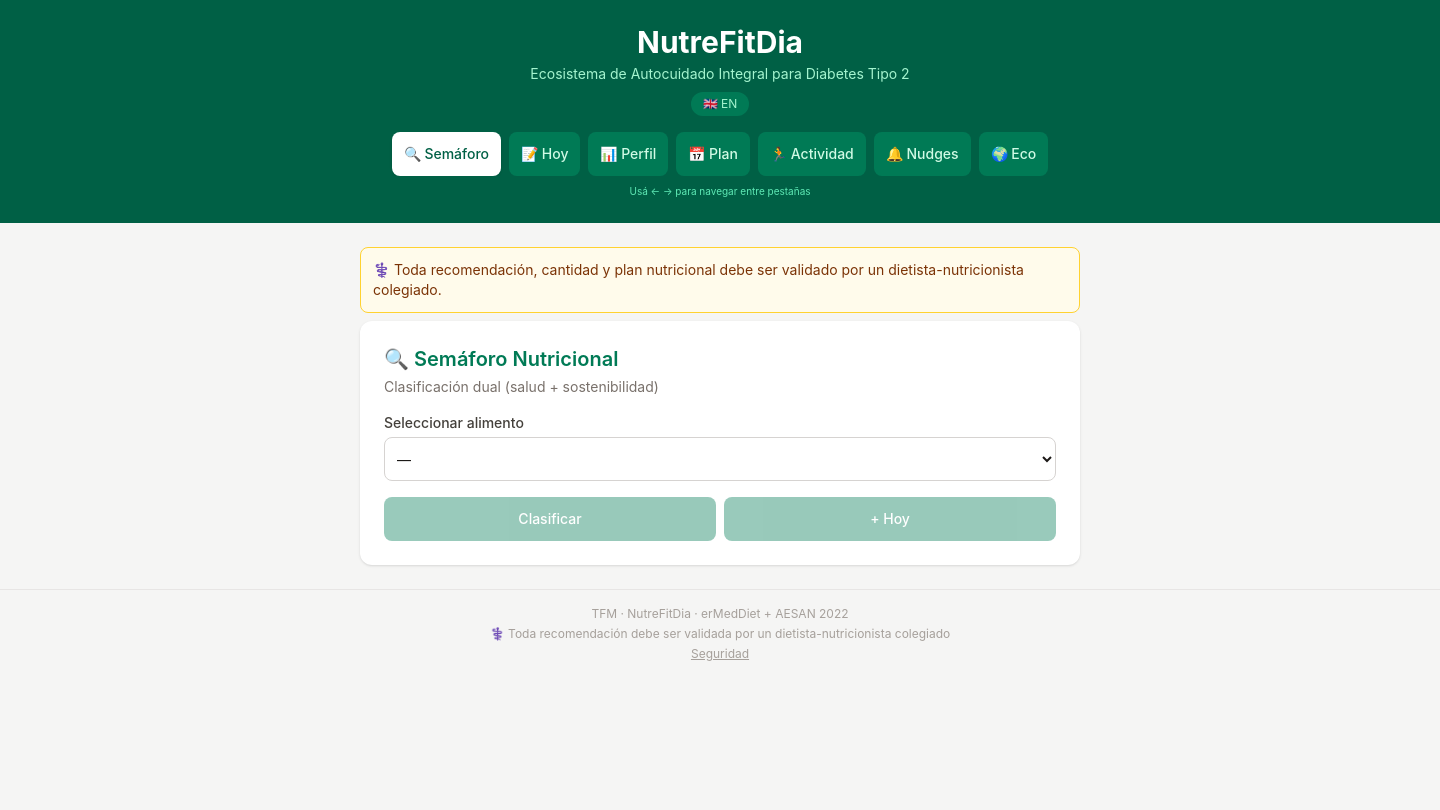
Scenario: App integration › DailyLog › shows empty state when no foods registered
The image size is (1440, 810).
Click the tab "📝 Hoy" at (545, 154), box [509,132,580,176]
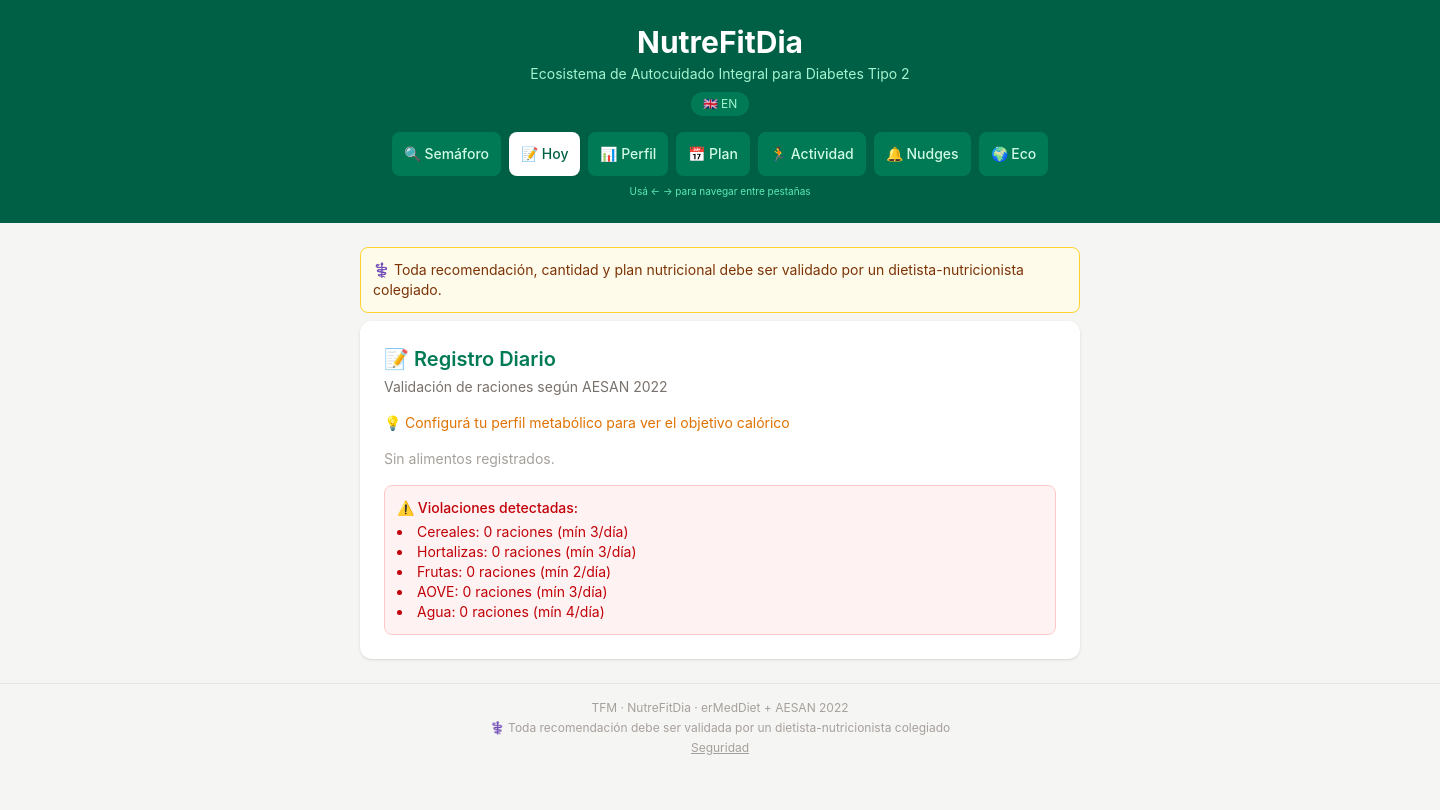
expect the text "💡 Configurá tu perfil metabólico para ver el objetivo calórico" is shown: met, box [384,414,790,431]
